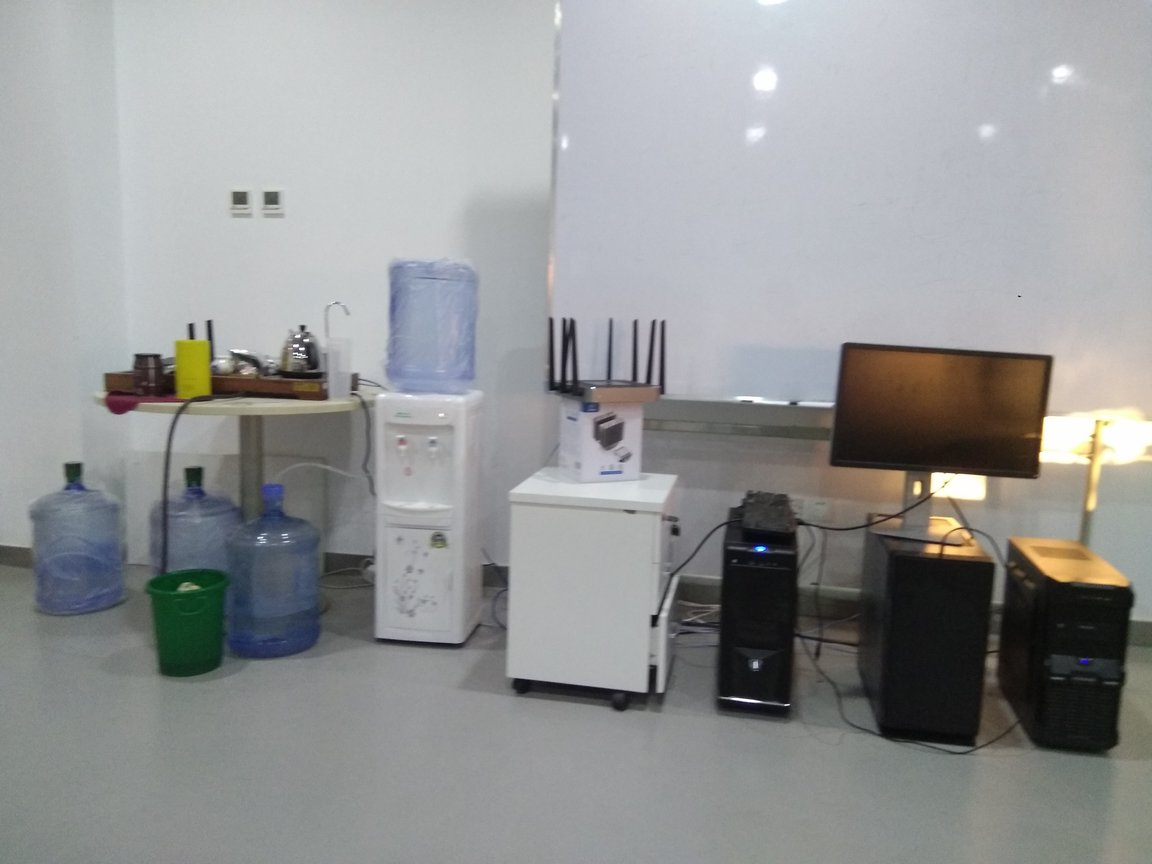computer: (867, 513, 993, 757), (1006, 522, 1131, 766), (715, 502, 796, 736)
drawer chest: (506, 463, 682, 699)
monitor: (823, 335, 1066, 547)
scuttlebutt: (226, 482, 327, 664), (147, 467, 245, 640), (376, 257, 487, 400), (27, 462, 123, 614)
water dispenser: (364, 387, 475, 651)
